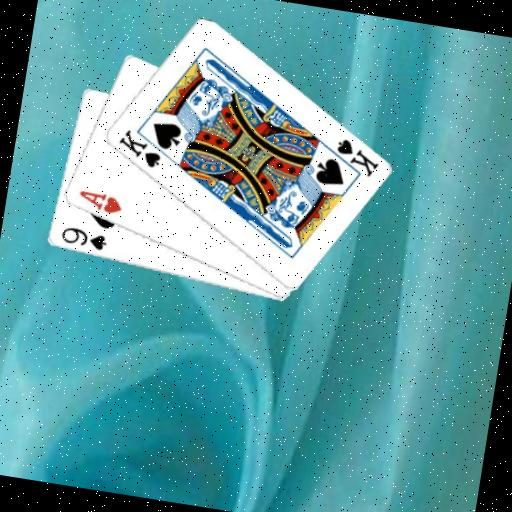9S: (56, 222, 109, 253)
AH: (73, 186, 125, 217)
KS: (320, 132, 383, 180), (111, 124, 165, 170)
